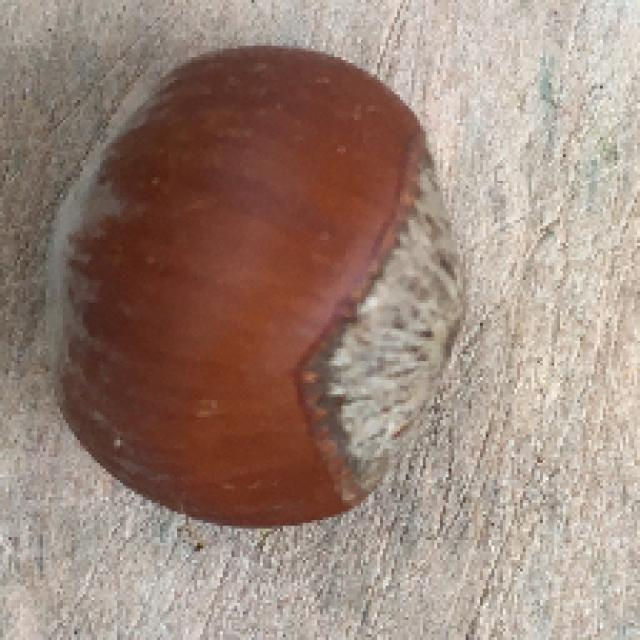qualityHazelnut: (29, 42, 472, 528)
